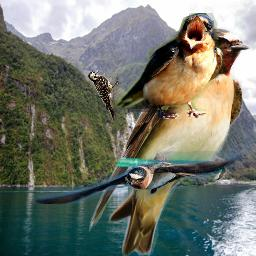Swallow: (89, 27, 250, 256), (114, 13, 224, 119), (33, 151, 239, 204)
Woodpecker: (88, 70, 119, 122)
